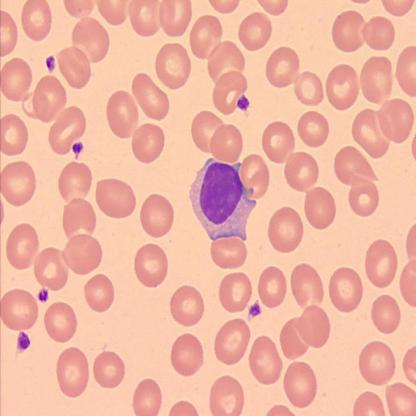Atypical lymphocyte: (188, 156, 258, 241)
